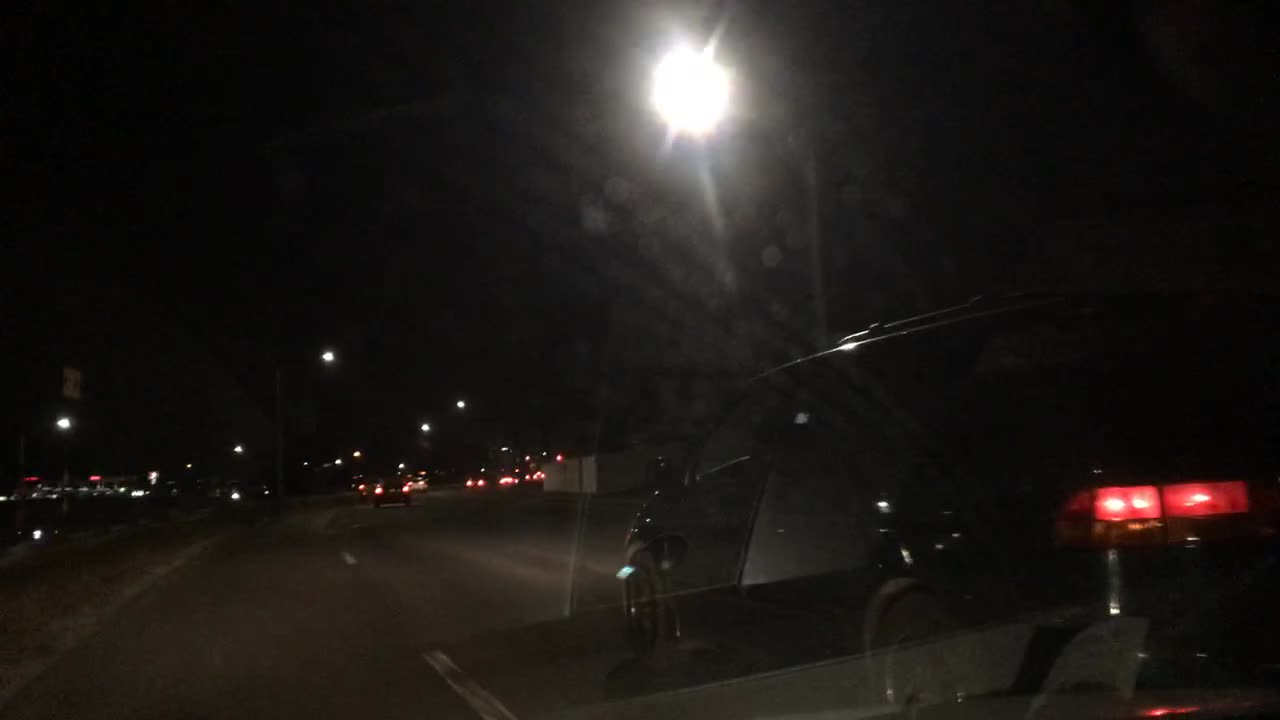car: (615, 242, 1277, 714), (375, 476, 412, 507), (403, 476, 428, 489), (466, 476, 495, 487), (523, 471, 545, 484), (496, 475, 523, 485), (359, 480, 371, 496)
traffic light: (554, 448, 563, 462)
